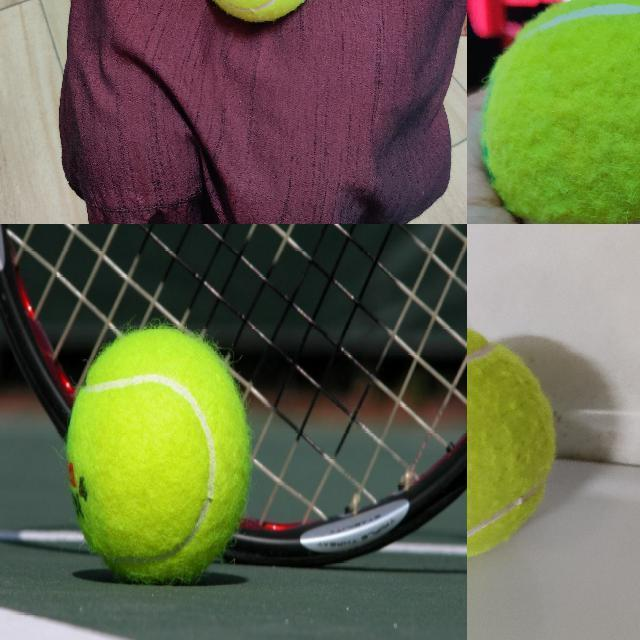tennis-ball: (66, 325, 252, 582), (479, 0, 639, 223), (467, 319, 561, 567)
